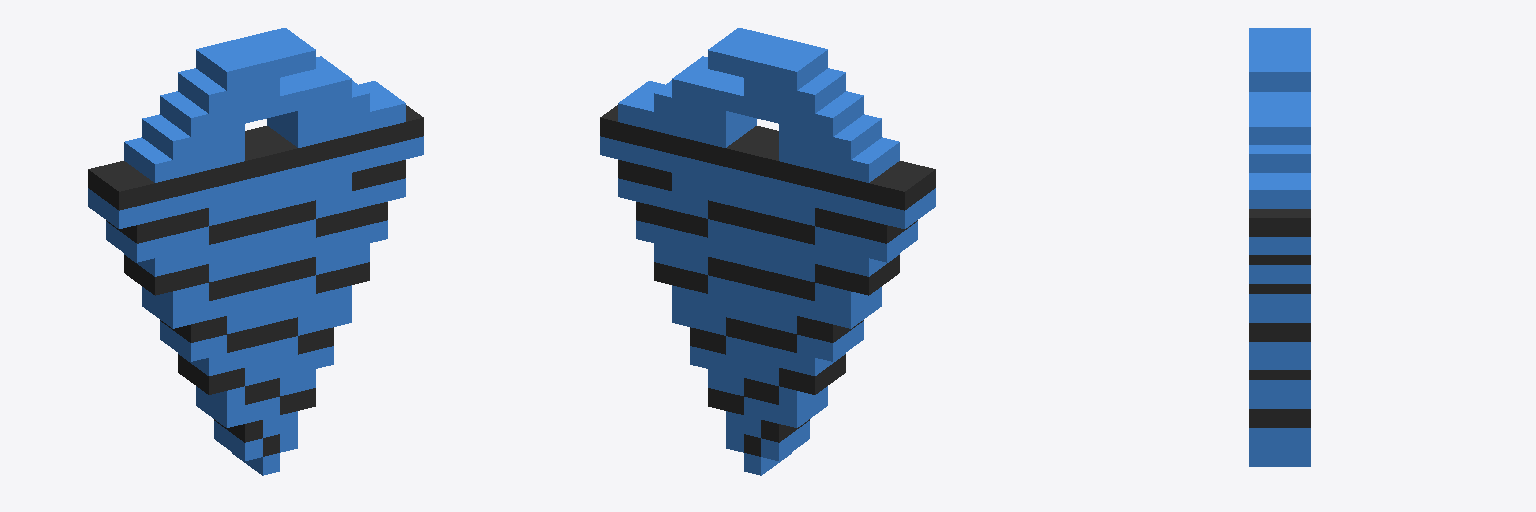
3 renders of one model, left to right at view 1: azimuth 30°, elevation 25°; view 2: azimuth 150°, elevation 25°; view 3: azimuth 270°, elevation 25°, orthographic.
Visible parts, largest first — view 1: wallbreakerInstance; view 2: wallbreakerInstance; view 3: wallbreakerInstance.
Part boxes in pixels (left/top/right/bottom): wallbreakerInstance: left=88, top=28, right=423, bottom=475; wallbreakerInstance: left=600, top=28, right=935, bottom=475; wallbreakerInstance: left=1249, top=28, right=1310, bottom=466.
Bounding box in the file's own units: 17 × 22 × 3.
1 materials, 1 textured.